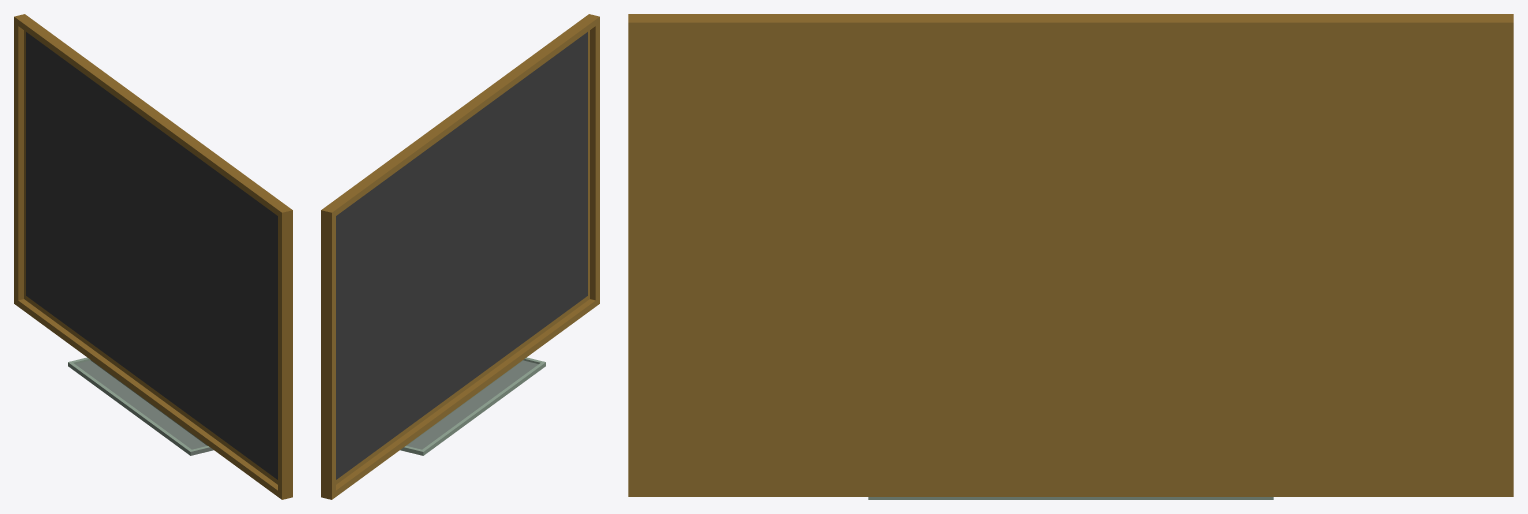
The model's file is Blackboard.fbx.
The picture shows the model from 3 angles, left to right: view 1: azimuth 30°, elevation 25°; view 2: azimuth 150°, elevation 25°; view 3: azimuth 270°, elevation 25°; orthographic projection. The views are drawn at different scales.
Visible parts, largest first — view 1: Blackboard; view 2: Blackboard; view 3: Blackboard.
Part boxes in pixels (x1,y1,x2,y2): Blackboard: [14, 14, 292, 499]; Blackboard: [321, 14, 599, 499]; Blackboard: [628, 14, 1513, 499].
Bounding box in the file's own units: 38.06 × 358 × 595.
